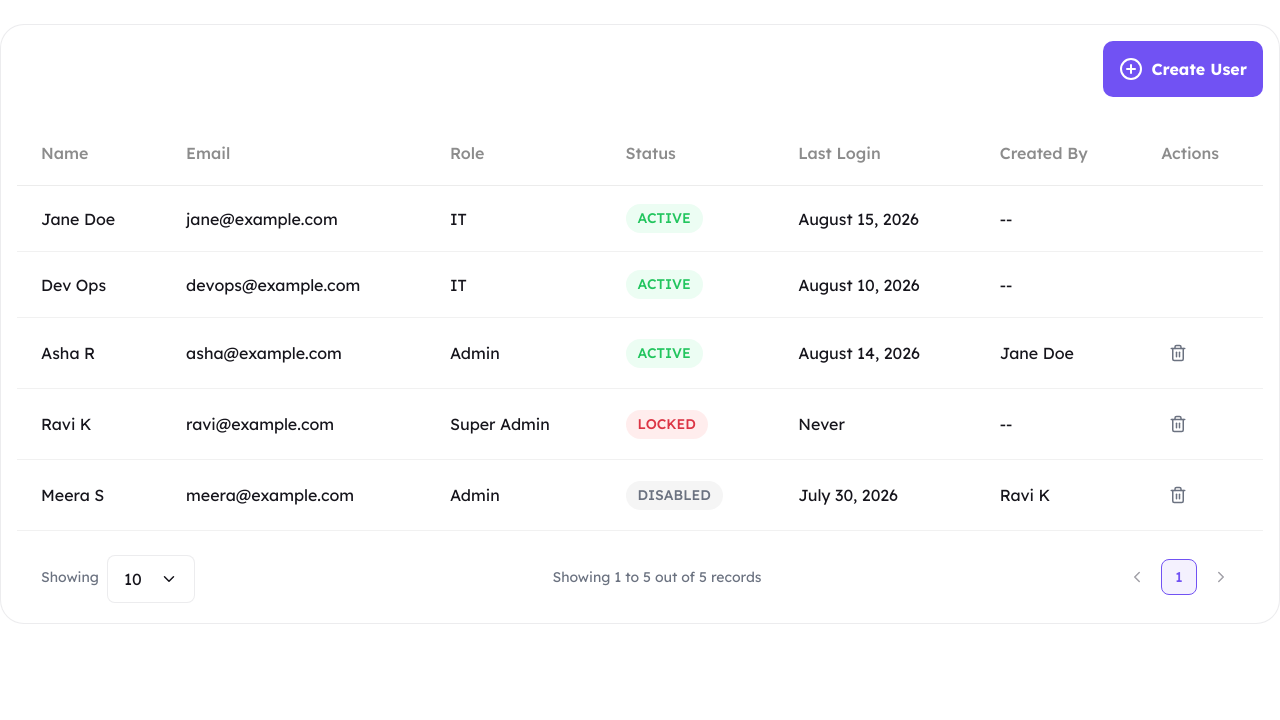
Test: UsersDashboard › delete confirmation › deletes nothing when the confirmation is dismissed
This screenshot has width=1280, height=720.
What coordinates should you click on to do the following:
click the button named "Delete "
I would click on:
 (1178, 353)
Its box is [1161, 336, 1195, 370].
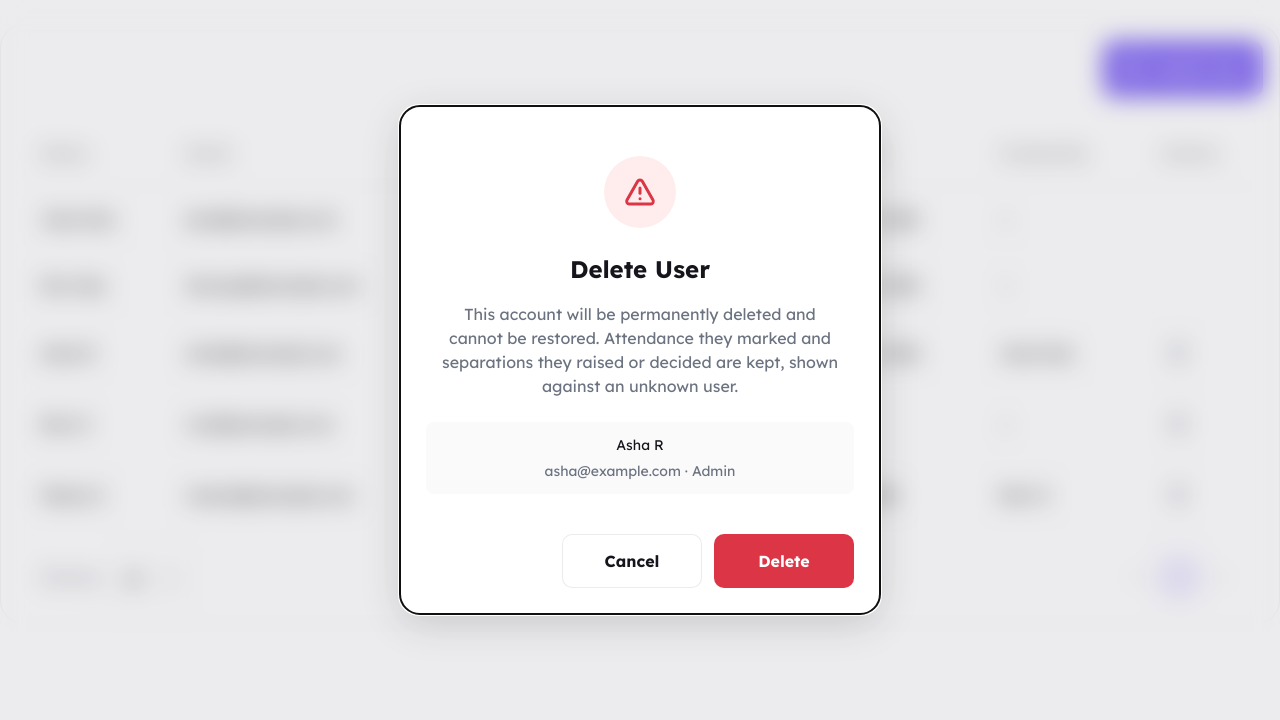
What coordinates should you click on to do the following:
click the button "Cancel"
I would click on:
 (632, 561)
Its box is [562, 534, 702, 588].
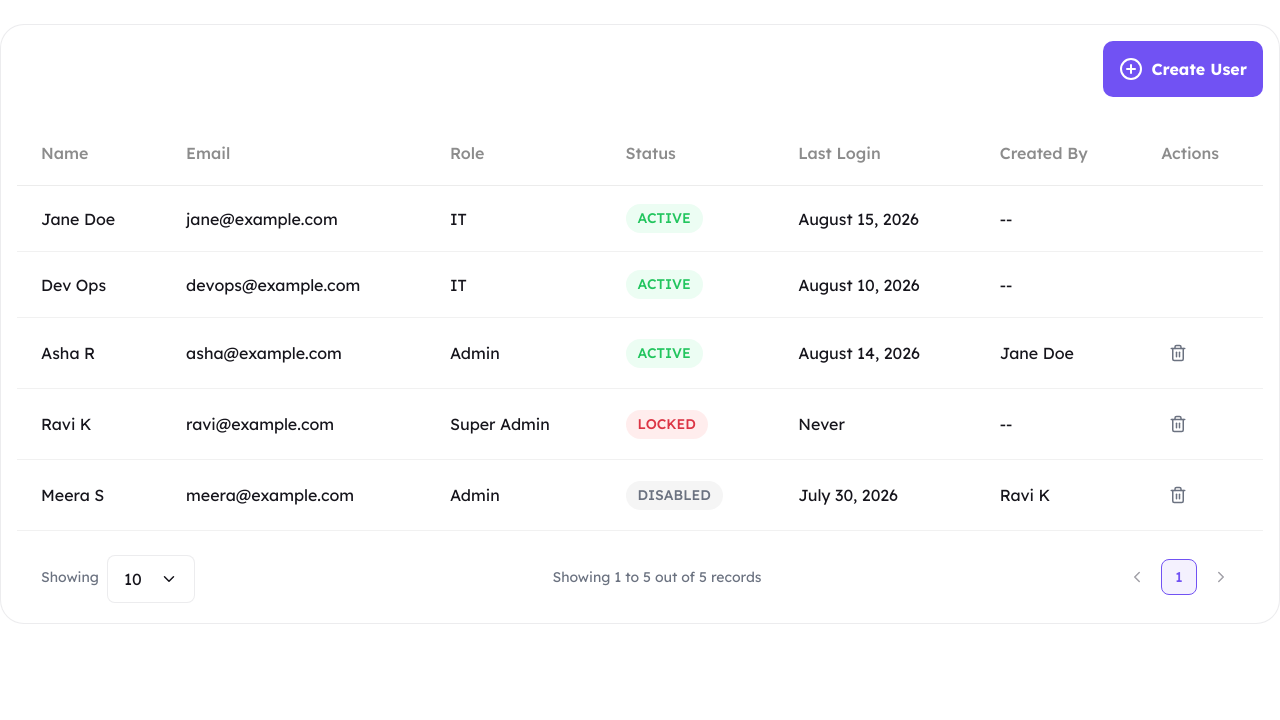
expect the dialog is gone: met
